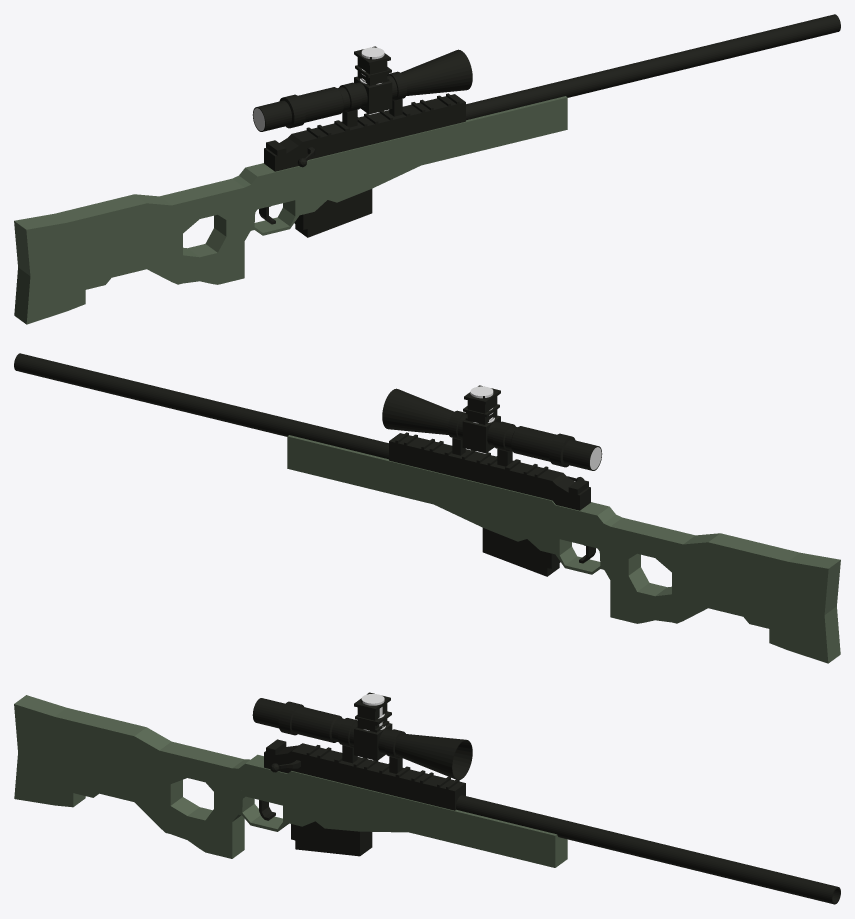
The model's file is AWM.fbx.
3 views of the same model, one above another, from view 1: azimuth 30°, elevation 25°; view 2: azimuth 150°, elevation 25°; view 3: azimuth 330°, elevation 25° (orthographic).
Parts seen in each view (by area): view 1: Buttstock, Reciever, Scope, Barrel, Cube, Magazine; view 2: Buttstock, Reciever, Scope, Barrel, Cube, Magazine; view 3: Buttstock, Reciever, Scope, Barrel, Cube, Magazine.
Part boxes in pixels (left/top/right/bottom): Buttstock: left=14, top=175, right=255, bottom=324; Reciever: left=239, top=96, right=567, bottom=235; Scope: left=252, top=46, right=472, bottom=131; Barrel: left=466, top=14, right=840, bottom=120; Cube: left=264, top=93, right=465, bottom=171; Magazine: left=294, top=189, right=372, bottom=237; Buttstock: left=599, top=514, right=840, bottom=663; Reciever: left=287, top=435, right=615, bottom=574; Scope: left=382, top=385, right=602, bottom=470; Barrel: left=14, top=353, right=388, bottom=459; Cube: left=389, top=432, right=590, bottom=510; Magazine: left=482, top=528, right=560, bottom=576; Buttstock: left=14, top=695, right=254, bottom=858; Reciever: left=239, top=754, right=567, bottom=867; Scope: left=252, top=692, right=472, bottom=780; Barrel: left=456, top=795, right=840, bottom=904; Cube: left=264, top=739, right=465, bottom=810; Magazine: left=291, top=821, right=372, bottom=856.
Bounding box in the file's own units: 381 × 84.25 × 21.44.
